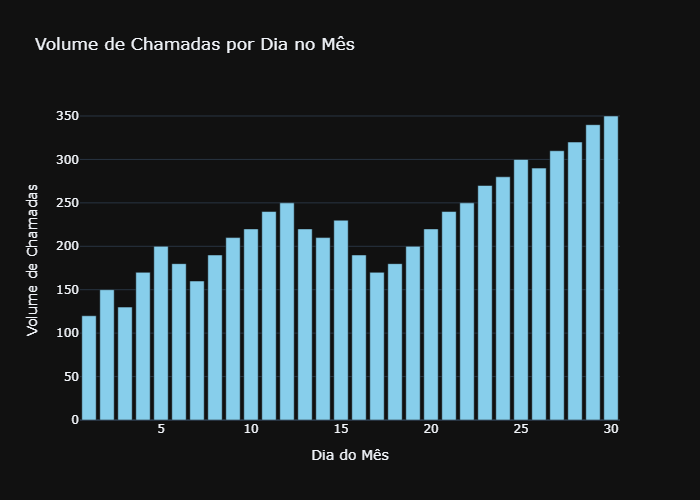

The page's visual inventory and layout, read from the dashboard file:
{"tool":"powerbi","page":{"name":"Página 3","canvas":[1280,720],"ordinal":2},"visuals":[{"type":"clusteredBarChart","fields":{"Category":["Resultados.Dia do Mês"],"Y":["Sum(Resultados.Volume de Chamadas)"]},"box":[0,0,845,671.3],"z":0}]}

Visuals, with their boxes on the page's 1280x720 design canvas (x1, y1, x2, y2). These are canvas units, not pixel positions in the 700x500 screenshot, which may show the page scaled, cropped or inside an application window:
clusteredBarChart - Resultados.Dia do Mês x Sum(Resultados.Volume de Chamadas): [0,0,845,671]
